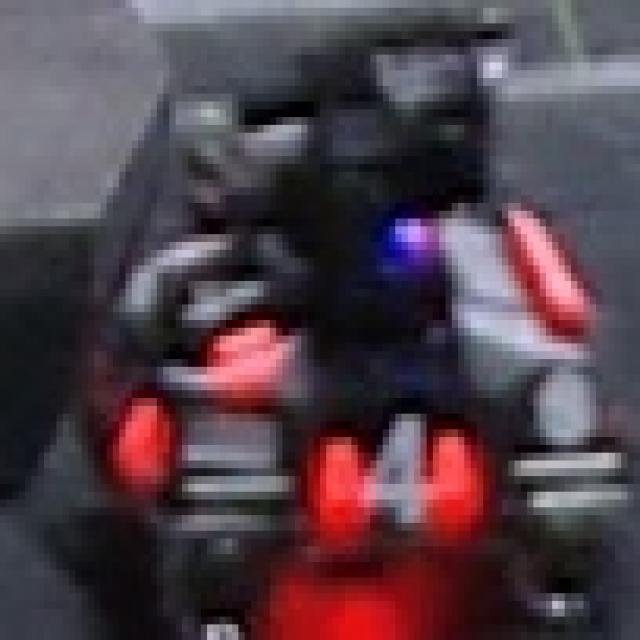R4: (150, 218, 295, 382), (308, 414, 490, 538)
